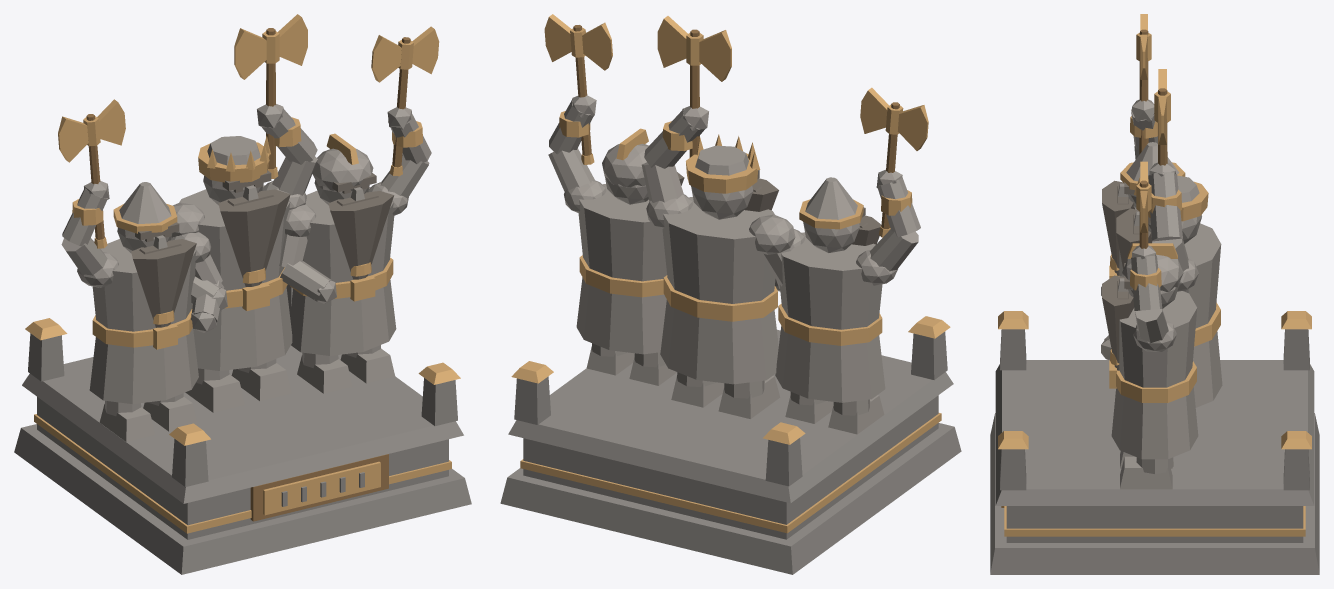
Rendered from colossus.glb.
3 renders of one model, left to right at view 1: azimuth 30°, elevation 25°; view 2: azimuth 150°, elevation 25°; view 3: azimuth 270°, elevation 25°, orthographic. The views are drawn at different scales.
Parts seen in each view (by area): view 1: plinth_cap, plinth_base, plinth_mid, founder_left_skirt, founder_right_skirt, founder_mid_skirt, founder_left_torso, founder_mid_beard, founder_right_torso, plaque, founder_left_beard, founder_right_beard (+42 smaller); view 2: plinth_cap, plinth_base, plinth_mid, founder_mid_torso, founder_mid_skirt, founder_left_torso, founder_right_torso, founder_left_skirt, founder_right_skirt, plinth_trim, founder_mid_axe_head, founder_mid_belt (+38 smaller); view 3: plinth_cap, plinth_base, plinth_mid, founder_right_skirt, founder_right_torso, plinth_trim, founder_mid_torso, founder_mid_forearm_r, founder_mid_skirt, founder_right_belt, founder_right_beard, founder_right_boot_r (+25 smaller).
Boxes of the visible parts, bbox=[...] form: plinth_cap: bbox=[22, 345, 463, 503]; plinth_base: bbox=[14, 424, 471, 574]; plinth_mid: bbox=[37, 397, 448, 539]; founder_left_skirt: bbox=[89, 328, 198, 403]; founder_right_skirt: bbox=[290, 280, 396, 355]; founder_mid_skirt: bbox=[193, 287, 292, 370]; founder_left_torso: bbox=[92, 239, 196, 331]; founder_mid_beard: bbox=[218, 189, 290, 286]; founder_right_torso: bbox=[303, 187, 394, 282]; plaque: bbox=[263, 461, 380, 515]; founder_left_beard: bbox=[131, 239, 196, 327]; founder_right_beard: bbox=[328, 191, 394, 279]; plinth_cap: bbox=[508, 329, 953, 503]; plinth_base: bbox=[500, 423, 961, 574]; plinth_mid: bbox=[523, 395, 938, 539]; founder_mid_torso: bbox=[662, 197, 775, 303]; founder_mid_skirt: bbox=[660, 300, 778, 384]; founder_left_torso: bbox=[779, 232, 882, 329]; founder_right_torso: bbox=[578, 184, 666, 281]; founder_left_skirt: bbox=[775, 326, 885, 402]; founder_right_skirt: bbox=[576, 277, 666, 354]; plinth_trim: bbox=[520, 413, 941, 533]; founder_mid_axe_head: bbox=[657, 16, 731, 81]; founder_mid_belt: bbox=[663, 275, 777, 321]; plinth_cap: bbox=[995, 360, 1314, 505]; plinth_base: bbox=[990, 413, 1319, 574]; plinth_mid: bbox=[1006, 506, 1303, 542]; founder_right_skirt: bbox=[1111, 387, 1198, 459]; founder_right_torso: bbox=[1119, 291, 1197, 387]; plinth_trim: bbox=[1004, 506, 1305, 536]; founder_mid_torso: bbox=[1152, 223, 1221, 328]; founder_mid_forearm_r: bbox=[1148, 172, 1182, 241]; founder_mid_skirt: bbox=[1193, 331, 1222, 407]; founder_right_belt: bbox=[1116, 361, 1196, 402]; founder_right_beard: bbox=[1102, 275, 1133, 370]; founder_right_boot_r: bbox=[1120, 456, 1172, 489].
Size of what is drawn, in the model's own units: 3.93 by 4.4 by 3.
